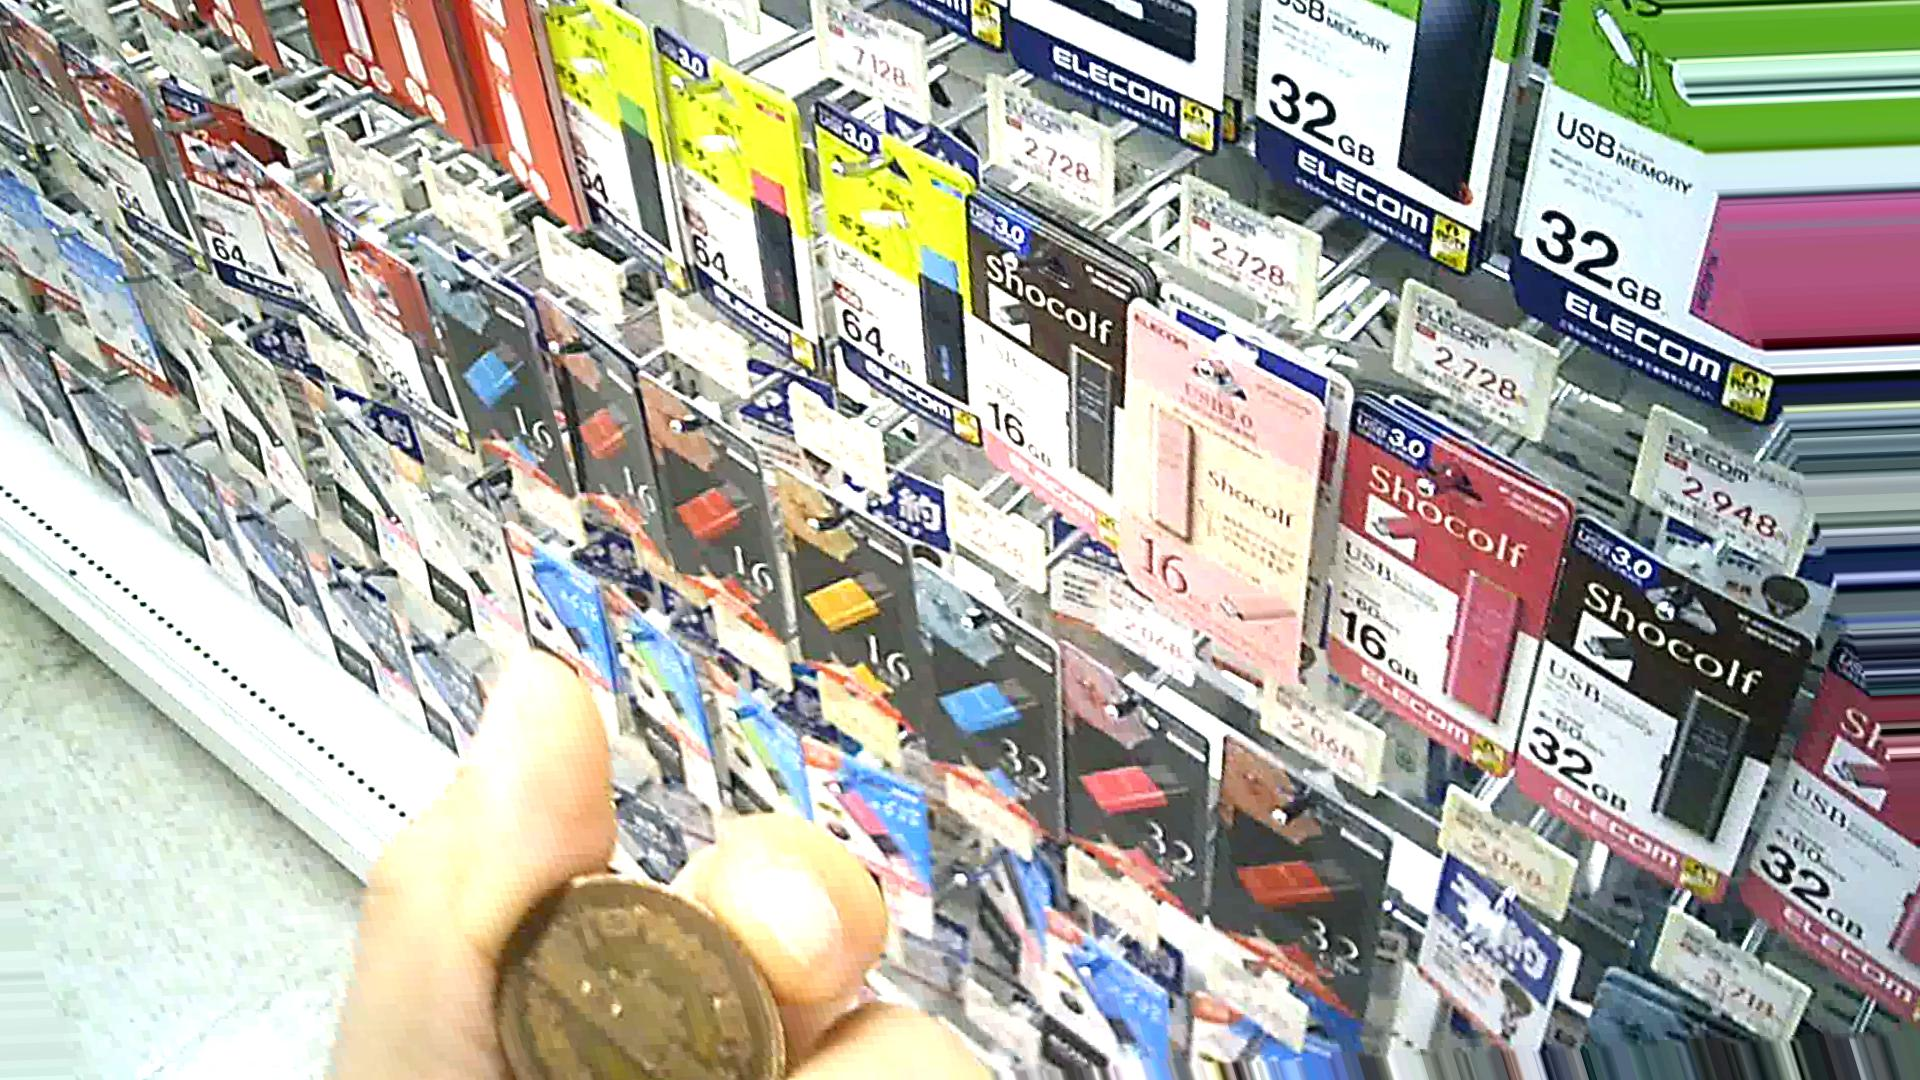10 Yen: (484, 861, 795, 1079)
